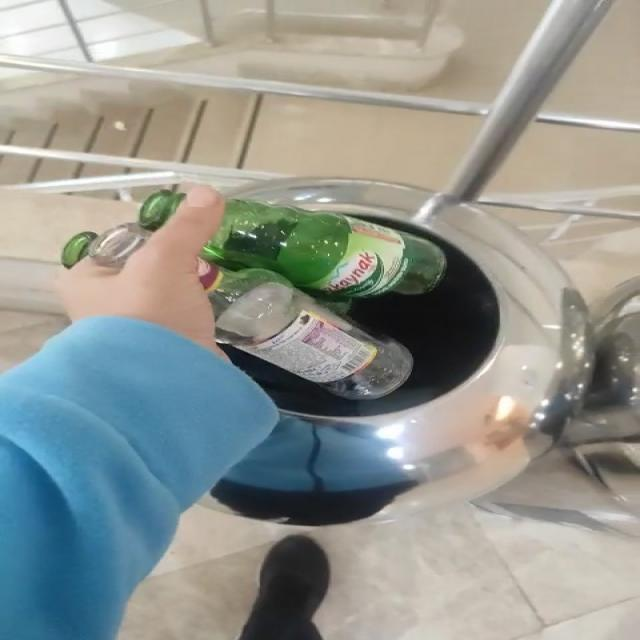Glass: (197, 199, 447, 400), (61, 191, 184, 268)
